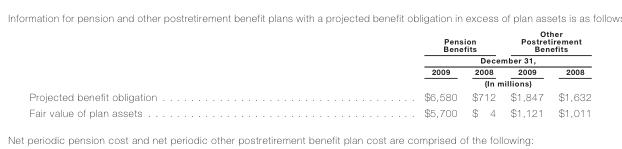table: (28, 28, 590, 117)
table column: (28, 28, 289, 117), (289, 28, 463, 117), (502, 28, 550, 117), (550, 28, 590, 117), (463, 28, 502, 117)
table column header: (28, 28, 590, 89)
table row: (28, 28, 590, 53), (28, 89, 590, 104), (28, 76, 590, 89), (28, 104, 590, 117), (28, 53, 590, 65), (28, 65, 590, 76)
table spanning cell: (289, 28, 502, 53), (289, 76, 590, 89), (289, 53, 590, 65), (502, 28, 590, 53)
